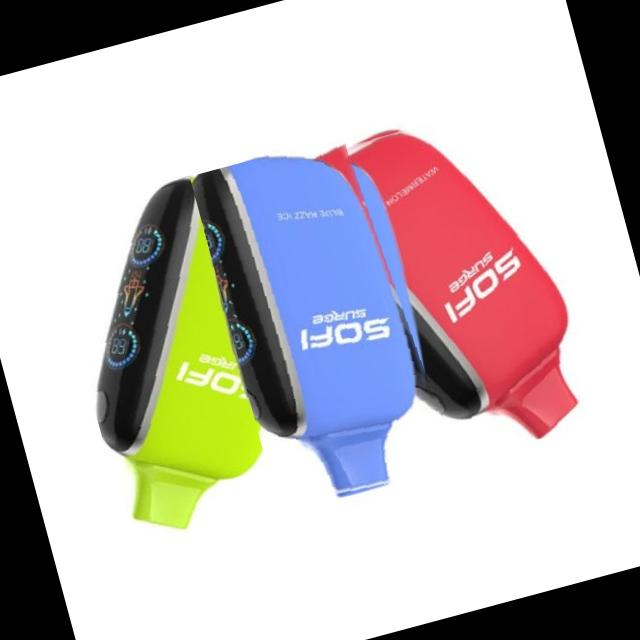Hazard: (188, 128, 458, 516), (41, 168, 302, 544), (336, 96, 598, 468)
